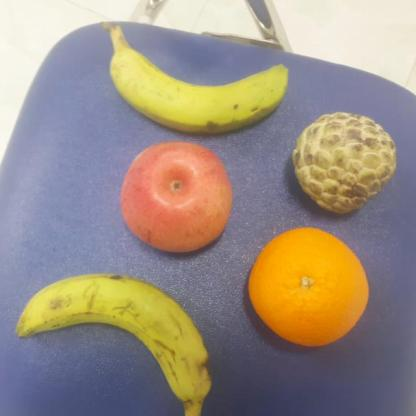annona: (288, 110, 398, 214)
apple: (118, 140, 235, 255)
banana: (16, 270, 215, 400), (108, 42, 292, 134)
orange: (247, 224, 371, 350)
